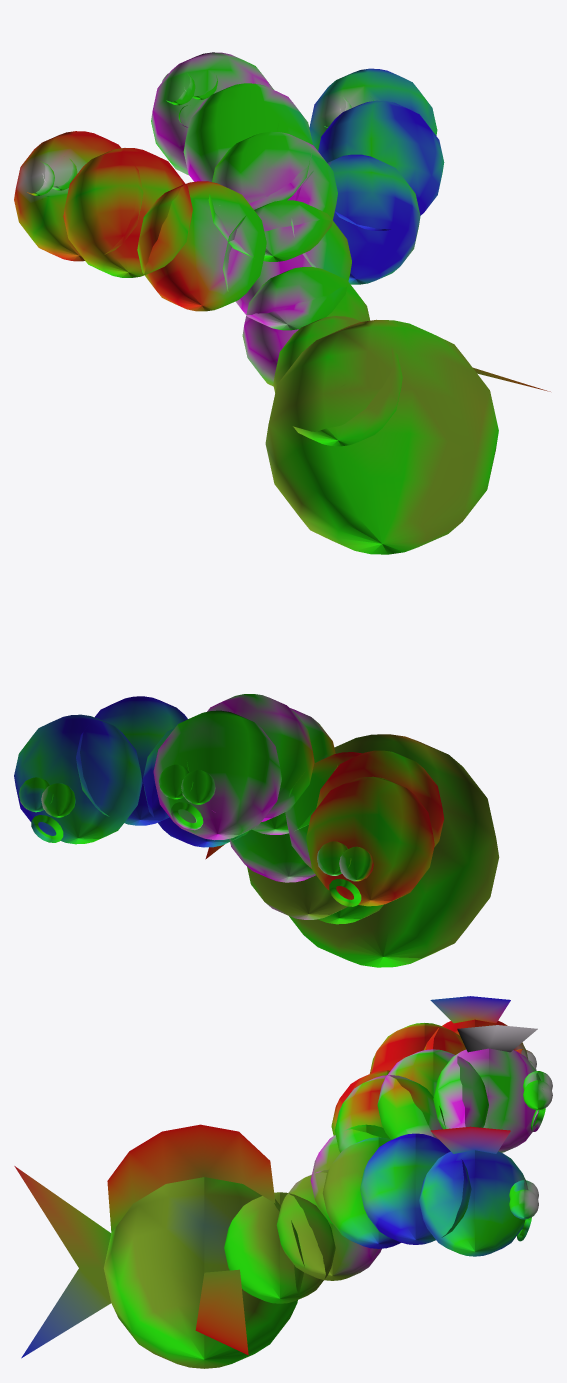
File: hydra.glb
3 renders of one model, top to bottom at view 1: azimuth 30°, elevation 25°; view 2: azimuth 150°, elevation 25°; view 3: azimuth 270°, elevation 25°, orthographic. The views are drawn at different scales.
Parts seen in each view (by area): view 1: Sphere; view 2: Sphere; view 3: Sphere.
Boxes of the visible parts, x1,y1,x2,y2 form: Sphere: (14, 52, 550, 554); Sphere: (14, 694, 499, 967); Sphere: (14, 996, 552, 1368).
Size of the model in its own units: 1.97 by 1.81 by 2.64.
